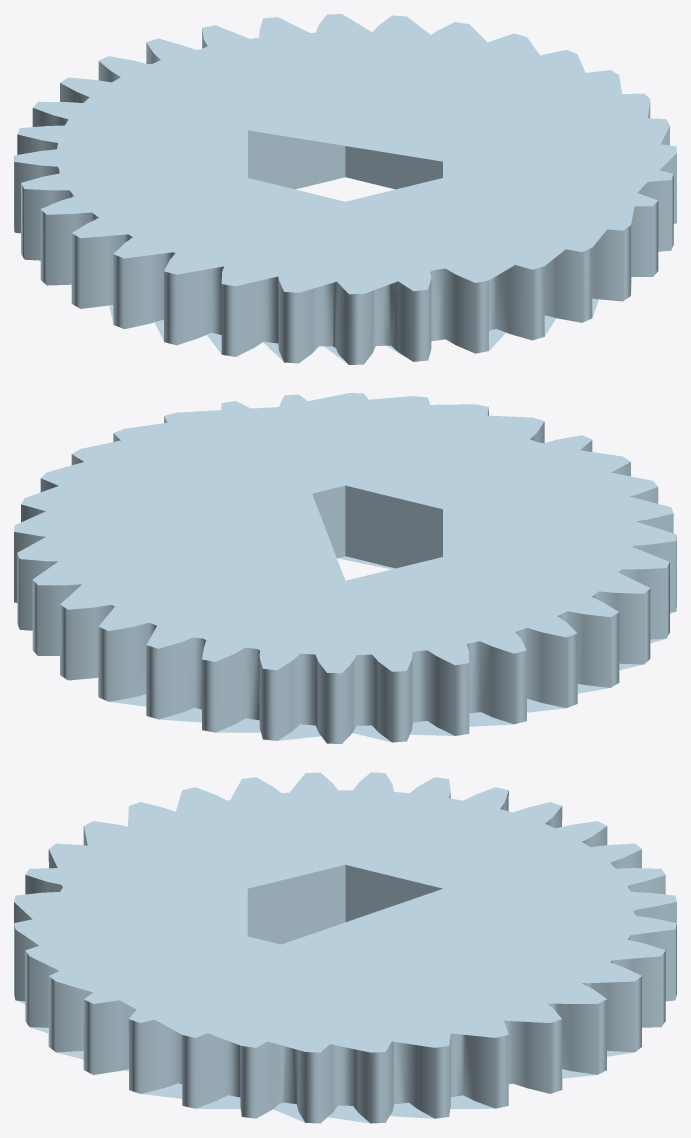
File: hex32t.fbx
3 views of the same model, one above another, from view 1: azimuth 30°, elevation 25°; view 2: azimuth 150°, elevation 25°; view 3: azimuth 270°, elevation 25° (orthographic).
Visible parts, largest first — view 1: Spur gear (32 teeth); view 2: Spur gear (32 teeth); view 3: Spur gear (32 teeth).
Boxes of the visible parts, left/top/right/bottom form: Spur gear (32 teeth): left=14, top=14, right=676, bottom=364; Spur gear (32 teeth): left=14, top=393, right=676, bottom=743; Spur gear (32 teeth): left=14, top=772, right=676, bottom=1123.
Size of the model in its own units: 4.31 by 0.508 by 4.31.
